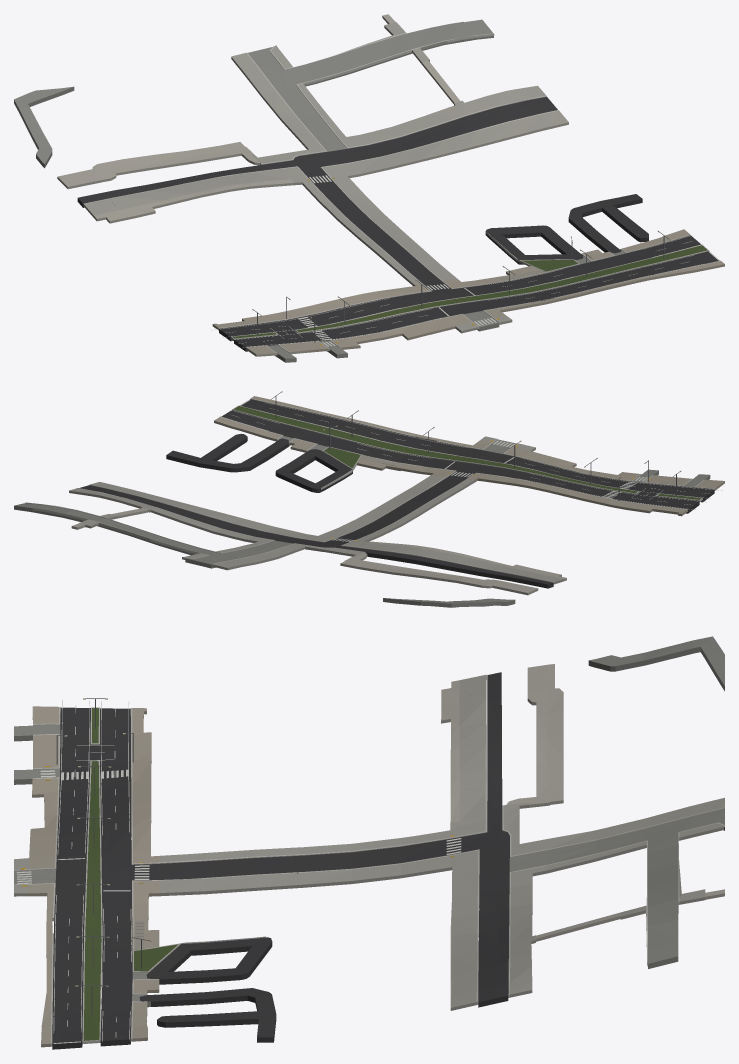
The picture shows the model from 3 angles, top to bottom: view 1: azimuth 30°, elevation 25°; view 2: azimuth 150°, elevation 25°; view 3: azimuth 270°, elevation 25°; orthographic projection. The views are drawn at different scales.
Size of the model in its own units: 150 by 27.52 by 146.
